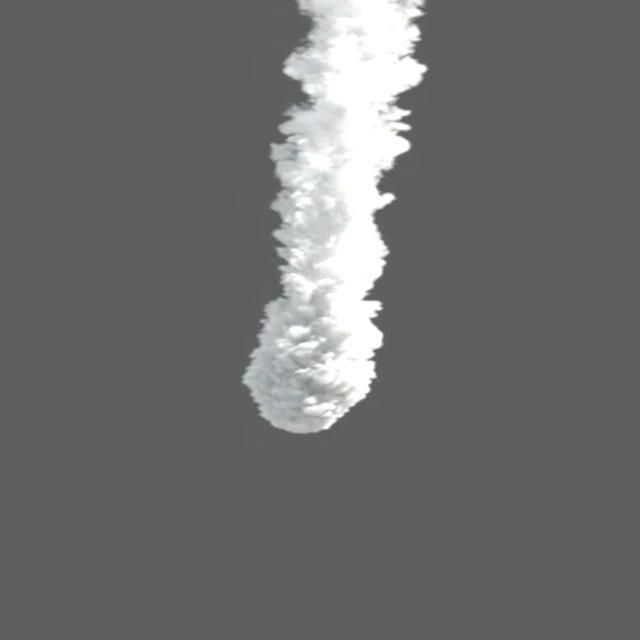no_helmet: (217, 0, 457, 456)
